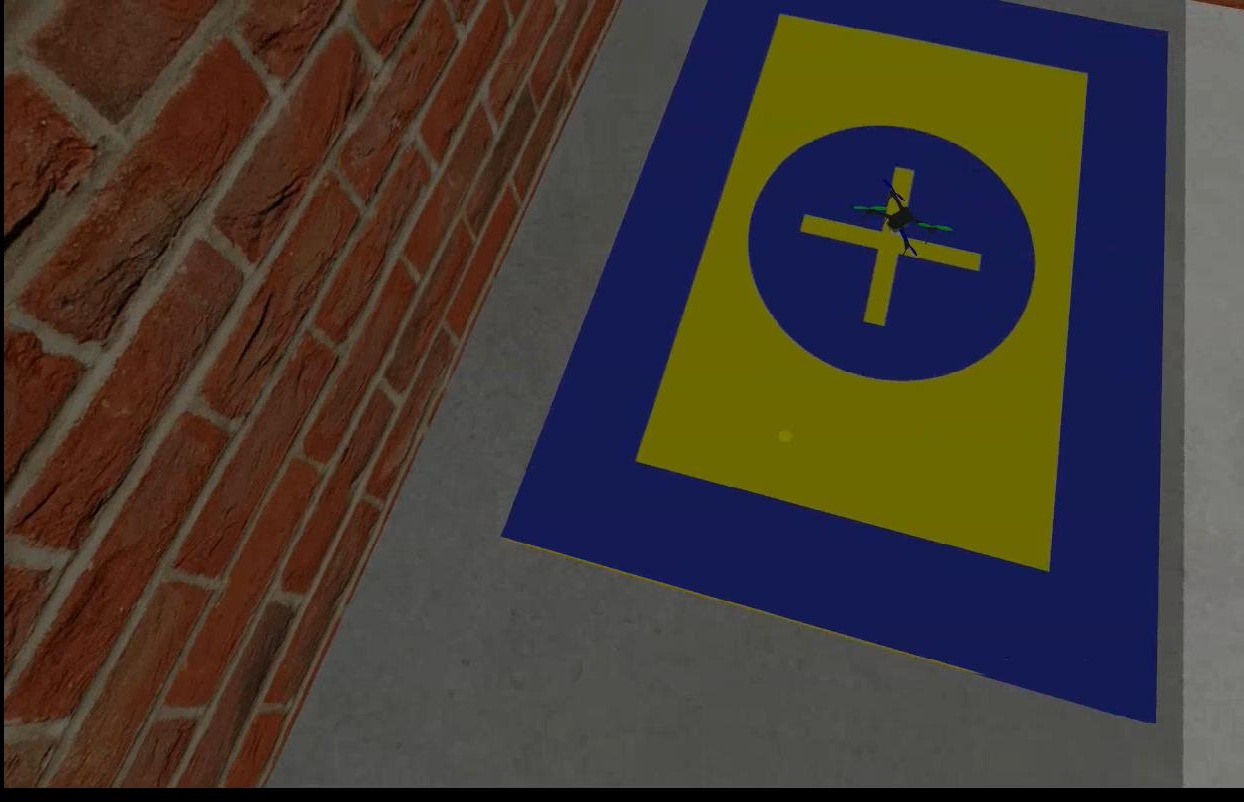large_base: (499, 1, 1165, 729)
